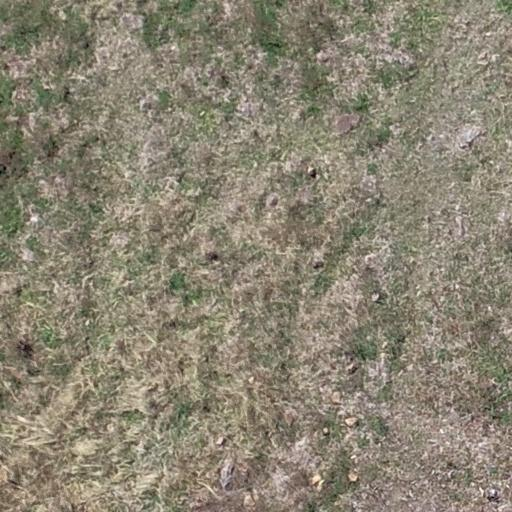stone: (338, 111, 358, 136), (313, 256, 326, 269), (344, 415, 360, 425), (346, 472, 358, 482), (216, 437, 226, 447), (307, 166, 316, 176)
